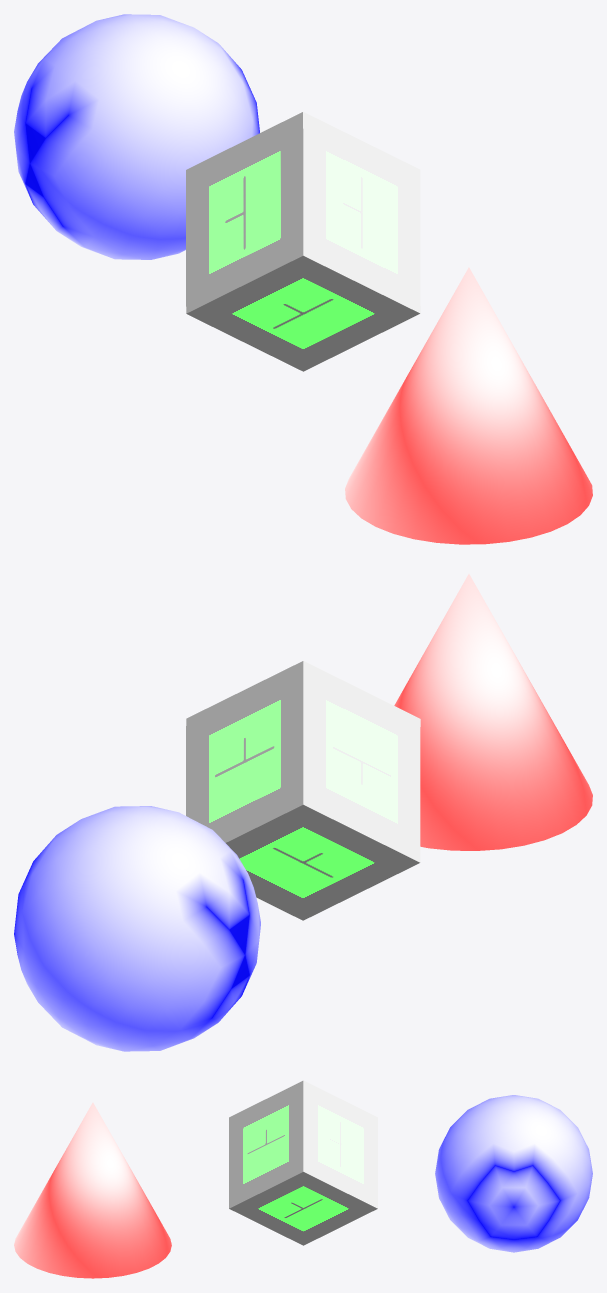
The model's file is Constant.gltf.
The picture shows the model from 3 angles, top to bottom: view 1: azimuth 30°, elevation 25°; view 2: azimuth 150°, elevation 25°; view 3: azimuth 270°, elevation 25°; orthographic projection. The views are drawn at different scales.
Visible parts, largest first — view 1: Cube, Icosphere, Cone; view 2: Icosphere, Cube, Cone; view 3: Icosphere, Cube, Cone.
Boxes of the visible parts, x1,y1,x2,y2 form: Cube: [186, 112, 420, 371]; Icosphere: [14, 14, 259, 259]; Cone: [345, 267, 592, 544]; Icosphere: [14, 806, 260, 1051]; Cube: [186, 661, 420, 920]; Cone: [394, 574, 592, 850]; Icosphere: [435, 1095, 592, 1252]; Cube: [229, 1080, 377, 1245]; Cone: [14, 1102, 171, 1278].
Size of the model in its own units: 1.63 by 1.73 by 5.5.
